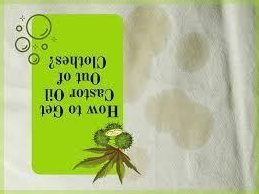oil: (142, 88, 223, 152), (125, 9, 167, 102), (167, 31, 209, 74)
